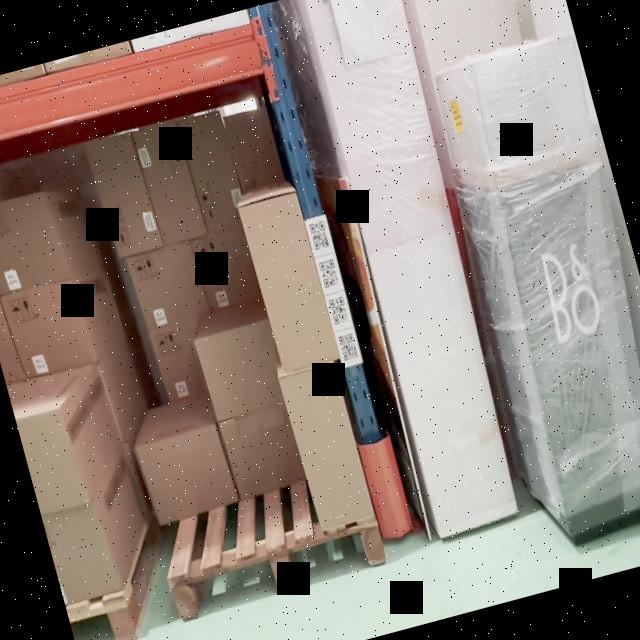box: (242, 190, 339, 372), (279, 364, 373, 528), (140, 424, 238, 524), (132, 121, 205, 242), (195, 324, 284, 417), (7, 280, 92, 376), (218, 404, 305, 496), (91, 135, 158, 254), (42, 504, 118, 604), (180, 113, 244, 230), (129, 239, 208, 329), (16, 410, 82, 512), (0, 193, 67, 291), (190, 225, 262, 310), (224, 104, 284, 188), (150, 321, 207, 400)
